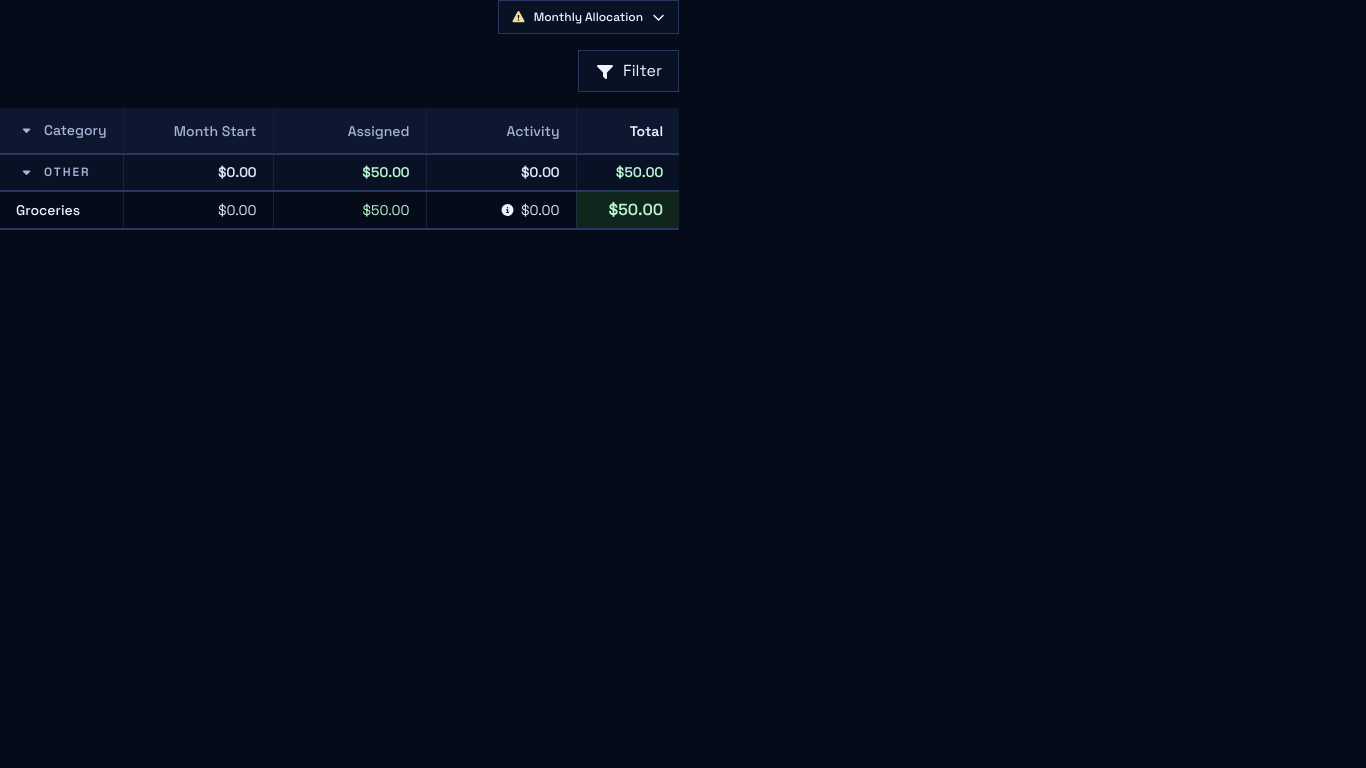
it: budget mutation feedback › keeps the last saved allocation row visible when allocation save fails
Click the button named "Edit assigned amount for Groceries" at coordinates (354, 210), box [290,200,418,220]
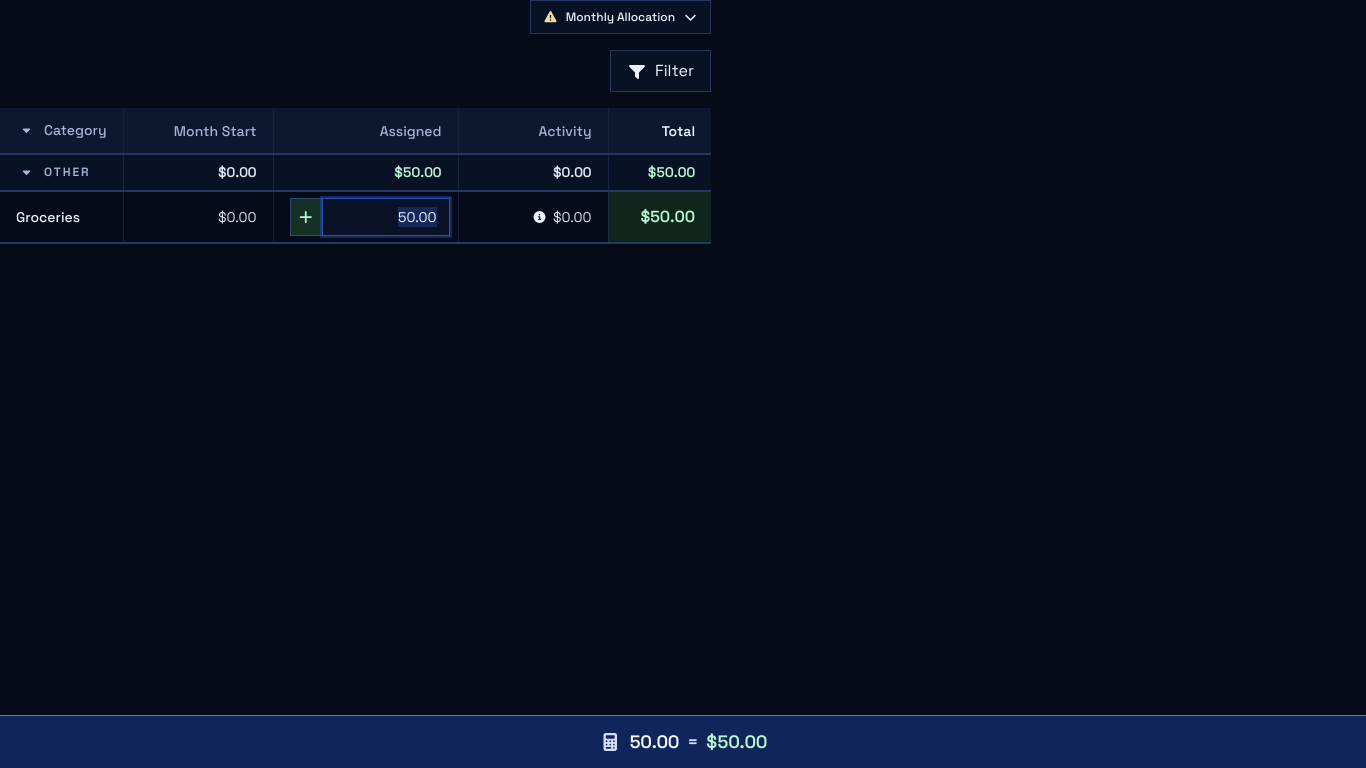
Clear the field named "Assigned amount for Groceries" at coordinates (386, 217), box [322,198,450,236]
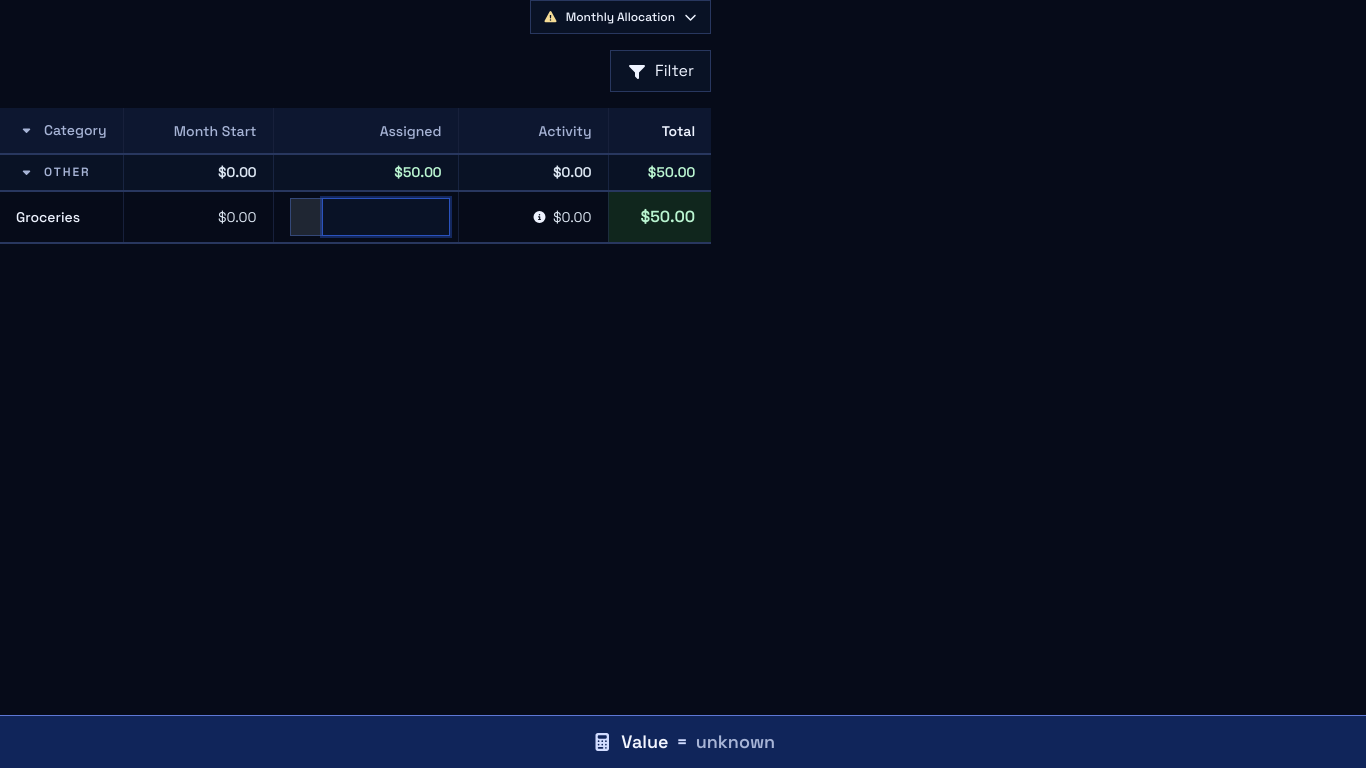
Press Enter
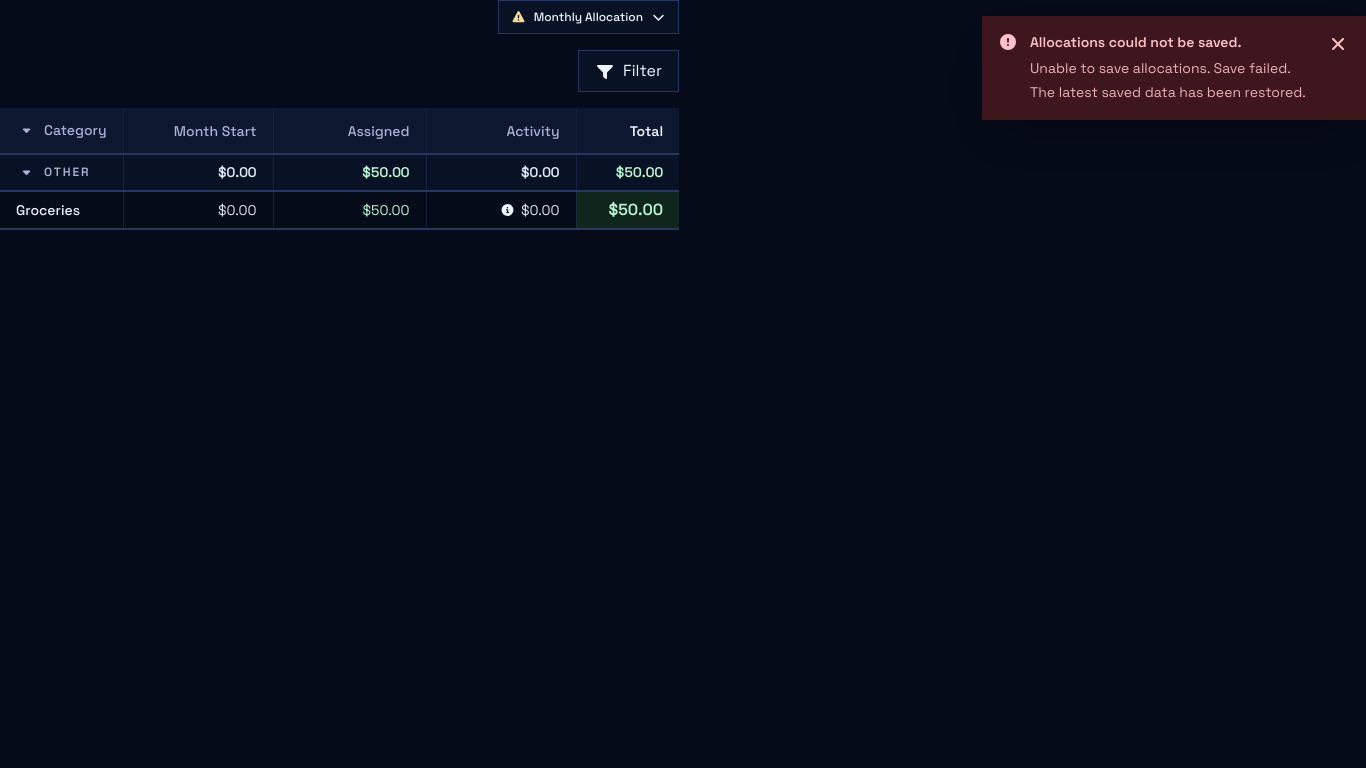
Expected: the text "Groceries" is shown, [16,201,80,219]
Expected: the text "Unable to save allocations. Save failed. The latest saved data has been restored." is shown, [1030,59,1306,101]
